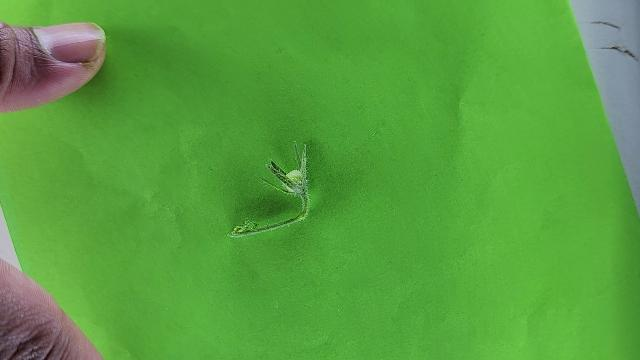Fruit Bud: (260, 142, 307, 200)
